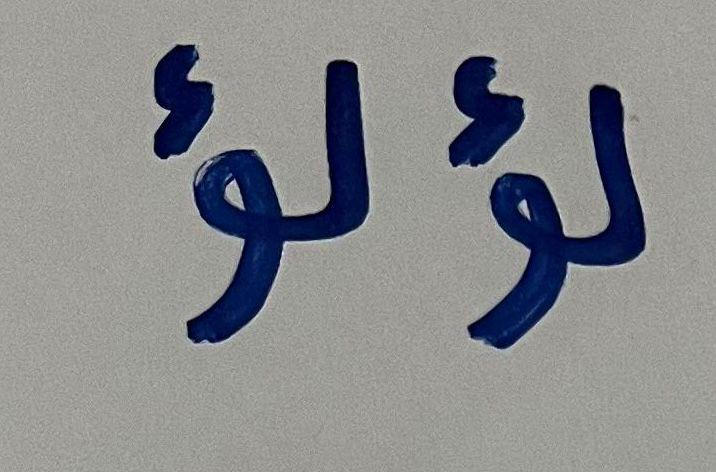lam: (573, 43, 705, 336), (290, 24, 404, 305)
waw: (118, 14, 287, 375), (416, 30, 570, 377)
